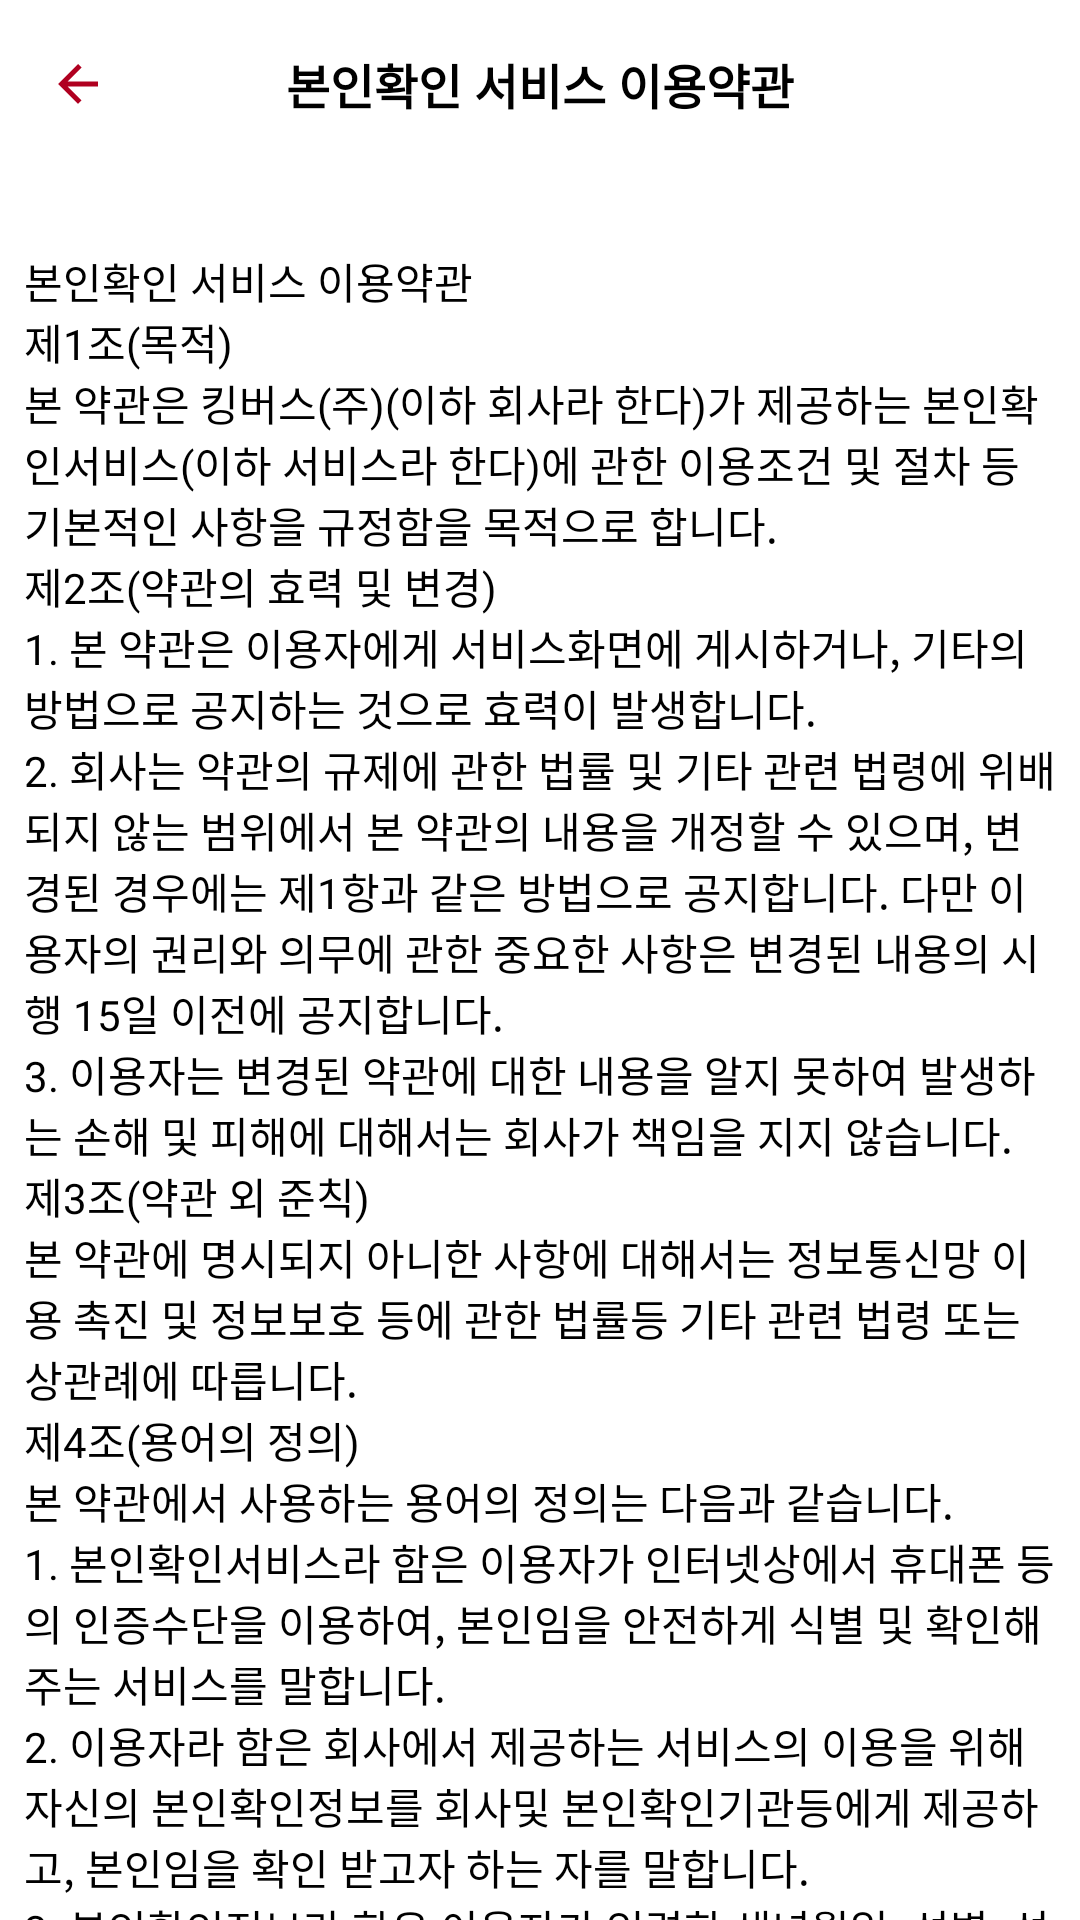

Screen size 1080 x 1920. Icon name, then its box in pixels as (x1, y1, x2, y2):
back: (58, 64, 98, 104)
